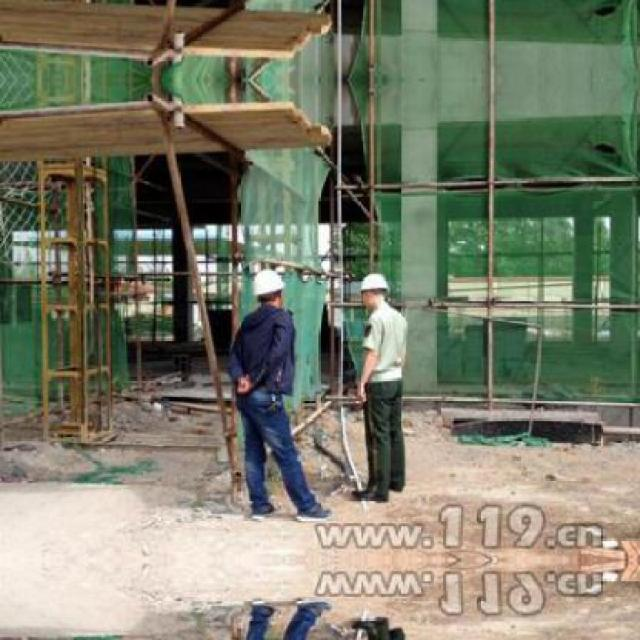helmet: (251, 268, 289, 297), (358, 274, 391, 297)
